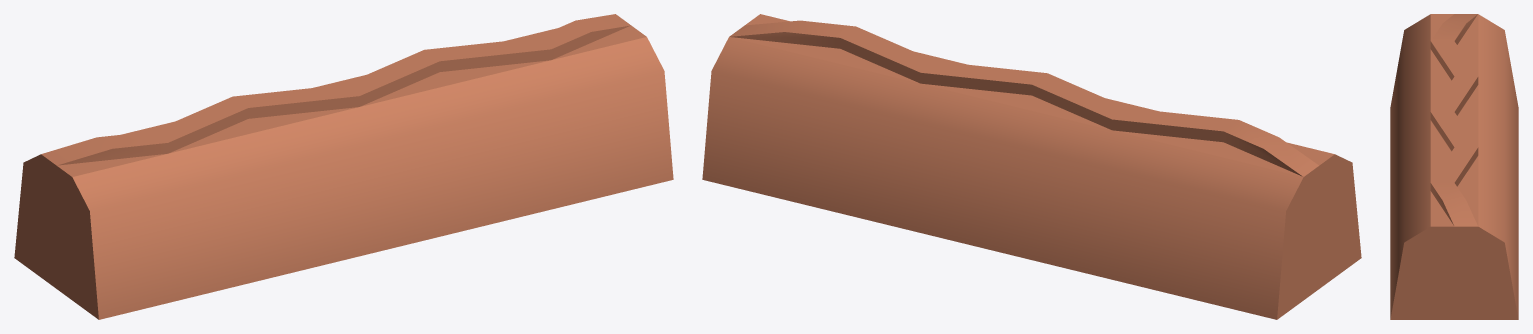
Rendered from candyBar.obj.
3 renders of one model, left to right at view 1: azimuth 30°, elevation 25°; view 2: azimuth 150°, elevation 25°; view 3: azimuth 270°, elevation 25°, orthographic. The views are drawn at different scales.
Visible parts, largest first — view 1: candyBar; view 2: candyBar; view 3: candyBar.
Part boxes in pixels (x1,y1,x2,y2): candyBar: (14,14,673,319); candyBar: (702,14,1361,319); candyBar: (1390,14,1518,319).
Size of the model in its own units: 0.2924 by 0.0653 by 0.0745.
